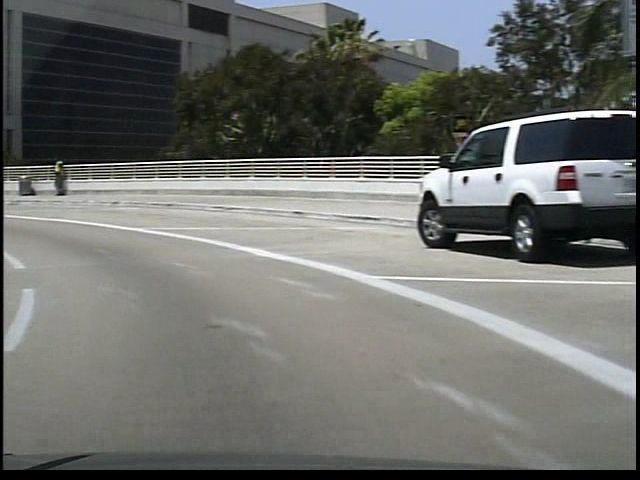person: (48, 154, 65, 198)
